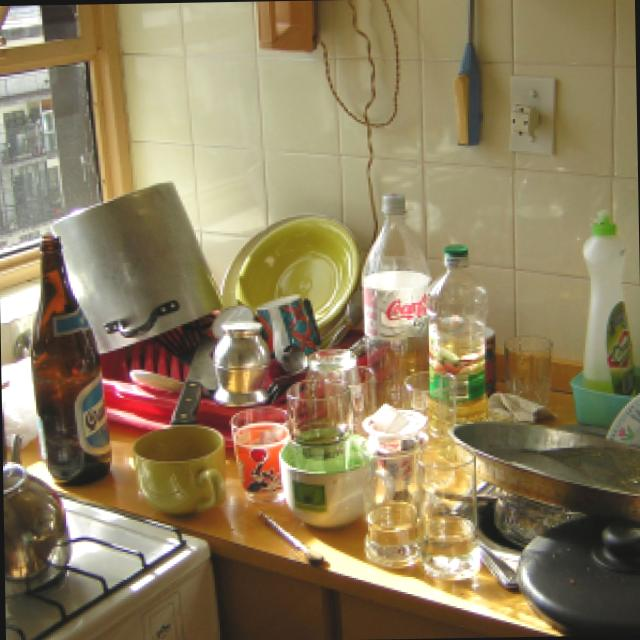mess: (21, 188, 640, 497), (203, 329, 640, 640)
